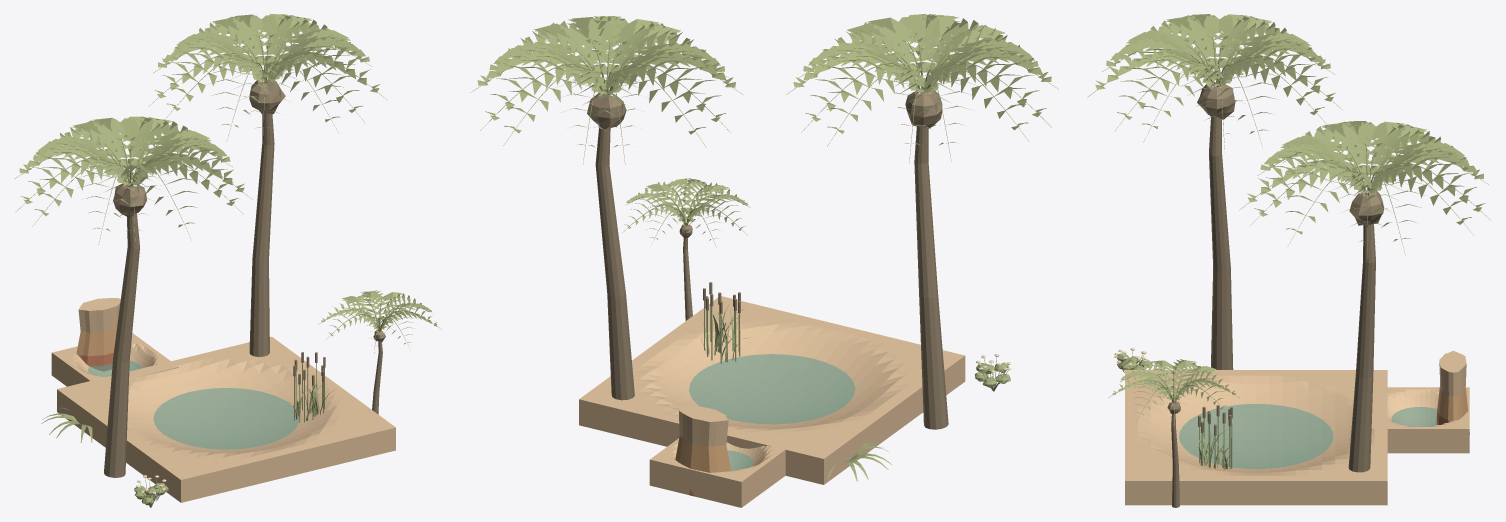
Rendered from desert-canyons-and-oases-oasis-grove-d0cab981__21037.glb.
3 views of the same model, side by side, from view 1: azimuth 30°, elevation 25°; view 2: azimuth 150°, elevation 25°; view 3: azimuth 270°, elevation 25° (orthographic). The views are drawn at different scales.
Visible parts, largest first — view 1: 000-oasis-pool/0, 001-date-palm-mature/1, 002-date-palm-mature/1, 000-oasis-pool/1, 001-date-palm-mature/0, 002-date-palm-mature/0, 003-date-palm-young/1, 006-spring-seep/0, 006-spring-seep/3, 002-date-palm-mature/2, 006-spring-seep/4, 001-date-palm-mature/2 (+1 smaller); view 2: 000-oasis-pool/0, 001-date-palm-mature/1, 002-date-palm-mature/1, 000-oasis-pool/1, 001-date-palm-mature/0, 006-spring-seep/0, 002-date-palm-mature/0, 003-date-palm-young/1, 006-spring-seep/3, 006-spring-seep/4, 001-date-palm-mature/2, 002-date-palm-mature/2 (+1 smaller); view 3: 000-oasis-pool/0, 002-date-palm-mature/1, 001-date-palm-mature/1, 000-oasis-pool/1, 006-spring-seep/0, 001-date-palm-mature/0, 002-date-palm-mature/0, 003-date-palm-young/1, 001-date-palm-mature/2, 002-date-palm-mature/2, 006-spring-seep/1, 006-spring-seep/3 (+4 smaller).
Part boxes in pixels (x1=…): 000-oasis-pool/0: x1=57, y1=336, x2=395, y2=502; 001-date-palm-mature/1: x1=15, y1=116, x2=252, y2=244; 002-date-palm-mature/1: x1=148, y1=14, x2=386, y2=144; 000-oasis-pool/1: x1=153, y1=388, x2=299, y2=449; 001-date-palm-mature/0: x1=104, y1=213, x2=139, y2=477; 002-date-palm-mature/0: x1=249, y1=113, x2=274, y2=356; 003-date-palm-young/1: x1=318, y1=290, x2=441, y2=353; 006-spring-seep/0: x1=51, y1=333, x2=178, y2=386; 006-spring-seep/3: x1=76, y1=328, x2=116, y2=356; 002-date-palm-mature/2: x1=249, y1=80, x2=285, y2=114; 006-spring-seep/4: x1=78, y1=303, x2=120, y2=332; 001-date-palm-mature/2: x1=113, y1=181, x2=146, y2=218; 000-oasis-pool/0: x1=579, y1=296, x2=965, y2=484; 001-date-palm-mature/1: x1=786, y1=14, x2=1058, y2=162; 002-date-palm-mature/1: x1=471, y1=16, x2=742, y2=164; 000-oasis-pool/1: x1=689, y1=354, x2=855, y2=424; 001-date-palm-mature/0: x1=914, y1=126, x2=948, y2=429; 006-spring-seep/0: x1=649, y1=427, x2=785, y2=507; 002-date-palm-mature/0: x1=595, y1=128, x2=634, y2=400; 003-date-palm-young/1: x1=622, y1=178, x2=750, y2=247; 006-spring-seep/3: x1=675, y1=436, x2=730, y2=472; 006-spring-seep/4: x1=679, y1=411, x2=728, y2=446; 001-date-palm-mature/2: x1=905, y1=88, x2=942, y2=127; 002-date-palm-mature/2: x1=587, y1=88, x2=626, y2=130; 000-oasis-pool/0: x1=1125, y1=370, x2=1387, y2=505; 002-date-palm-mature/1: x1=1239, y1=121, x2=1491, y2=258; 001-date-palm-mature/1: x1=1087, y1=14, x2=1341, y2=148; 000-oasis-pool/1: x1=1179, y1=403, x2=1333, y2=469; 006-spring-seep/0: x1=1371, y1=387, x2=1469, y2=453; 001-date-palm-mature/0: x1=1209, y1=117, x2=1233, y2=369; 002-date-palm-mature/0: x1=1348, y1=223, x2=1375, y2=472; 003-date-palm-young/1: x1=1109, y1=359, x2=1239, y2=425; 001-date-palm-mature/2: x1=1197, y1=84, x2=1235, y2=119; 002-date-palm-mature/2: x1=1349, y1=190, x2=1383, y2=225; 006-spring-seep/1: x1=1391, y1=407, x2=1437, y2=426; 006-spring-seep/3: x1=1437, y1=384, x2=1468, y2=420.
Size of the model in its own units: 12.47 by 9.35 by 9.85.
